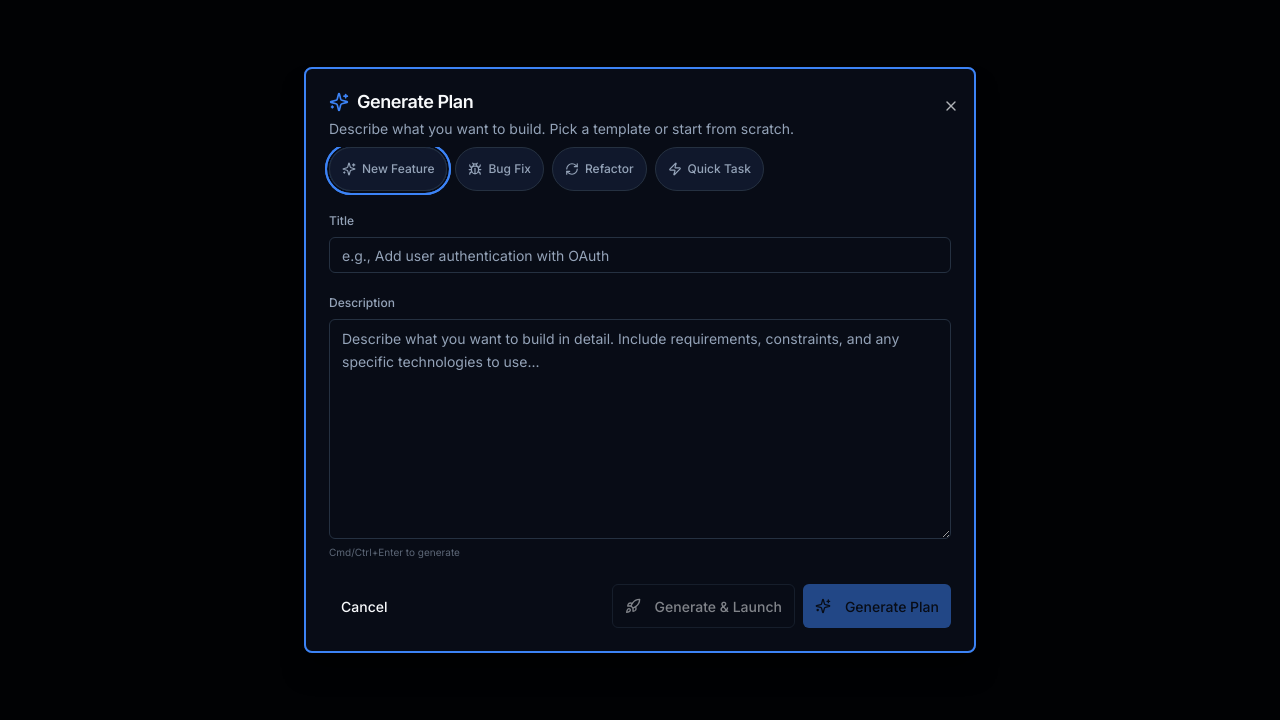
GeneratePlanDialog › should show error on generation failure
Type "My Plan" into the field labelled "Title".
click(640, 255); type("My Plan")  # box [329, 237, 951, 273]
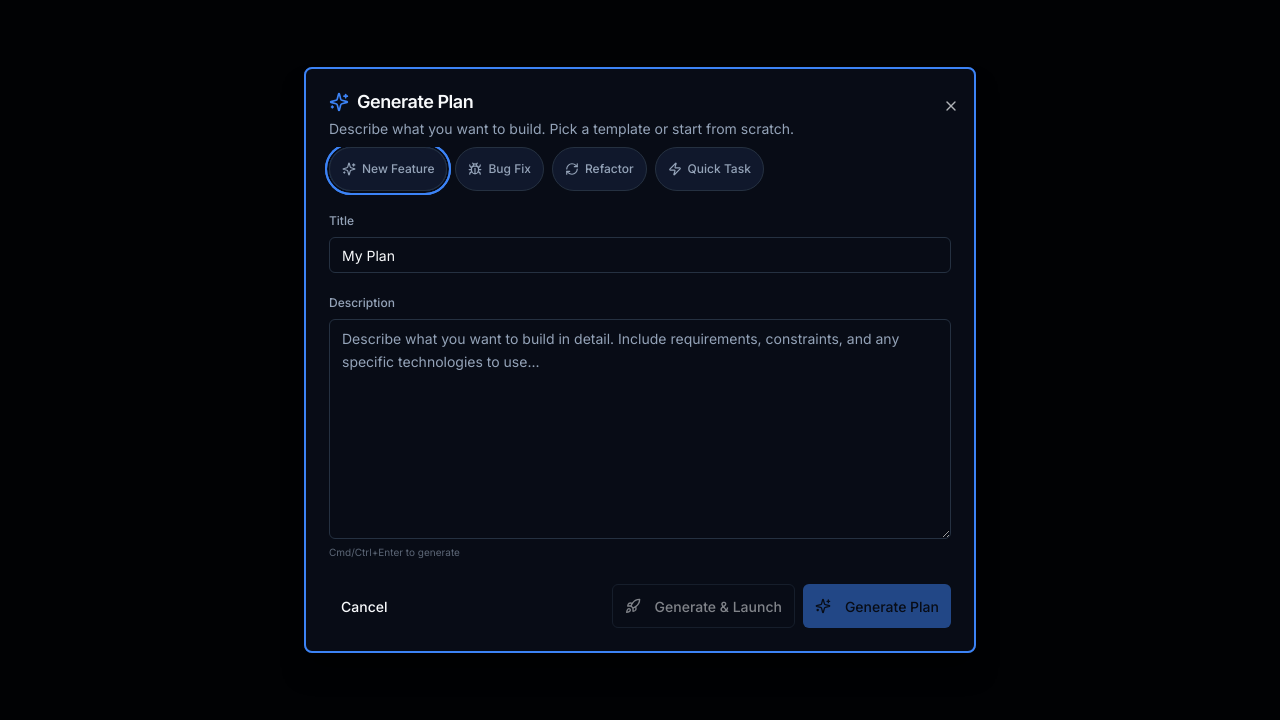
Replace the text in the text box labelled "Description" with "My Description" at (640,429), box [329, 319, 951, 539]
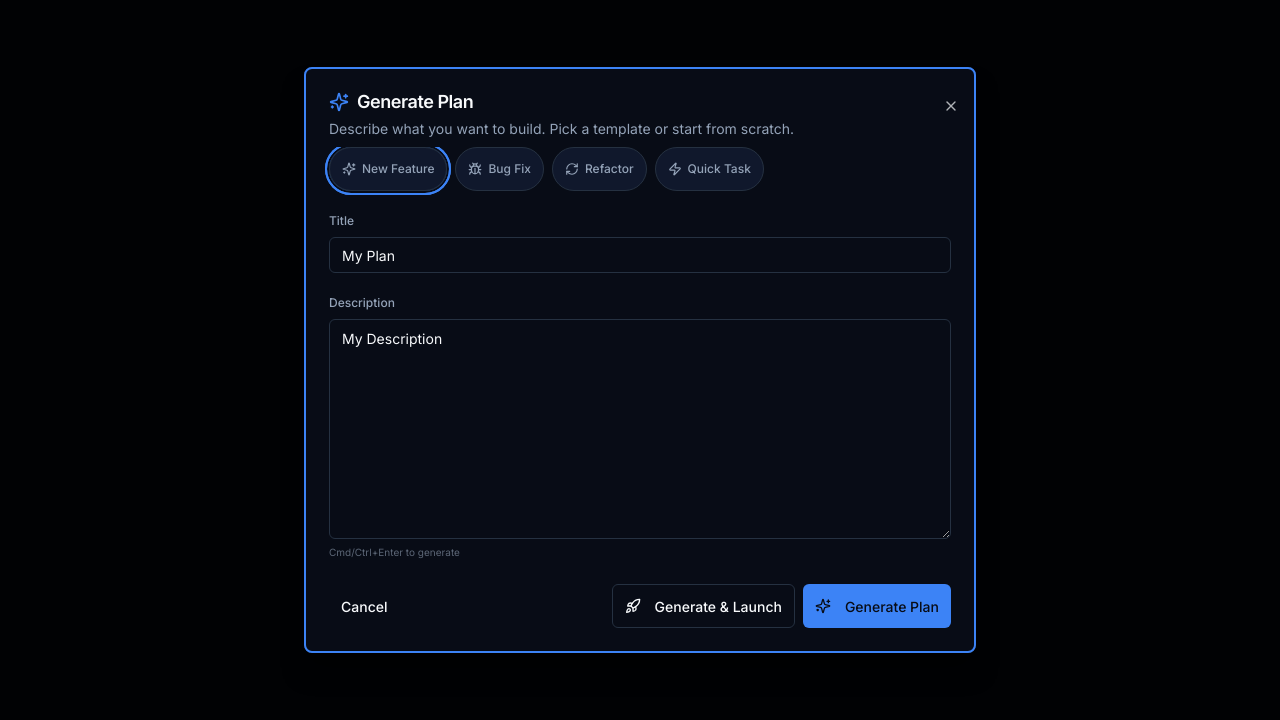
Click the button "Generate Plan".
click(877, 606)  # box [803, 584, 951, 628]
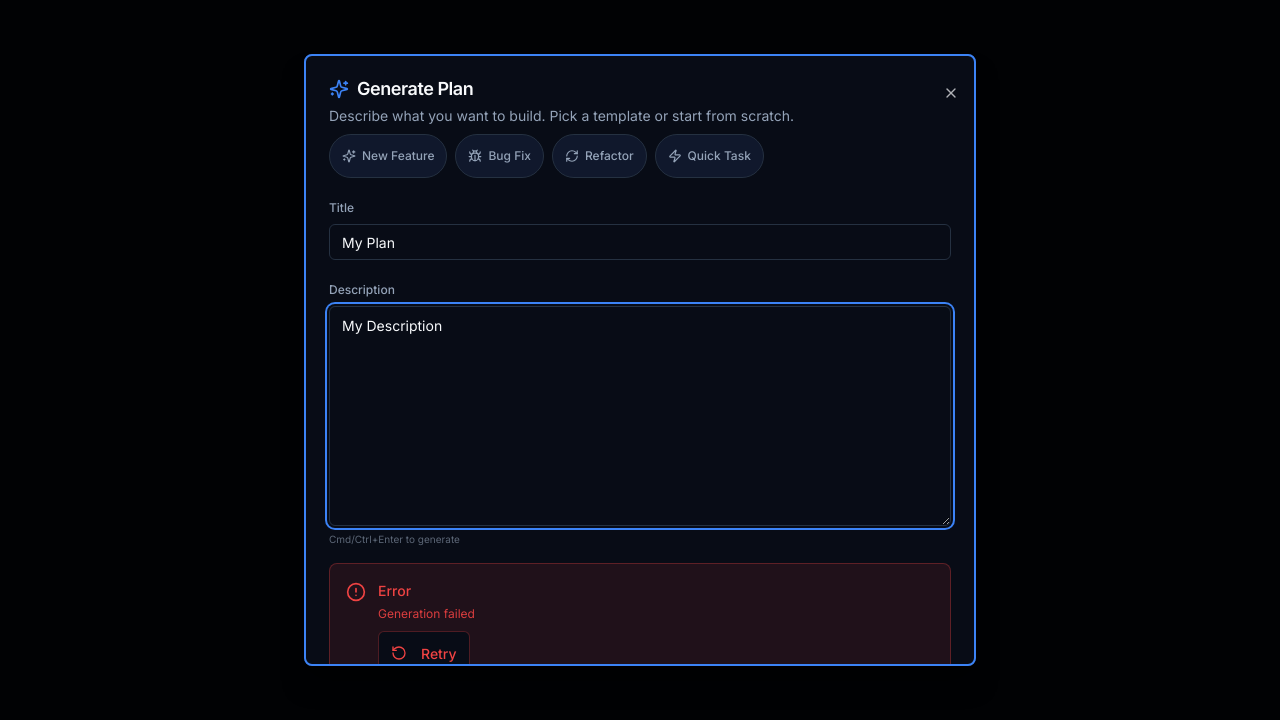
expect the text "Generation failed" is shown: met, box [378, 606, 475, 621]
